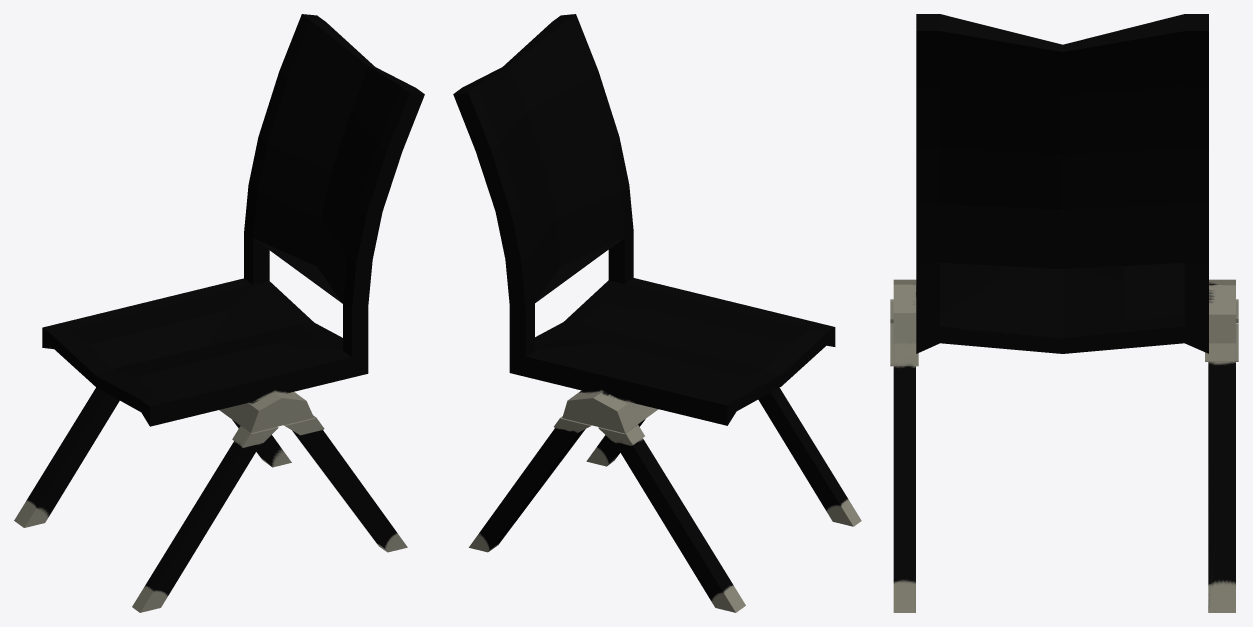
The model's file is Stuhl_Colored_Space.fbx.
3 renders of one model, left to right at view 1: azimuth 30°, elevation 25°; view 2: azimuth 150°, elevation 25°; view 3: azimuth 270°, elevation 25°, orthographic. The views are drawn at different scales.
Parts seen in each view (by area): view 1: node_id4; view 2: node_id4; view 3: node_id4.
Boxes of the visible parts, box(x1,y1,x2,y2) form: node_id4: box(14, 14, 424, 612); node_id4: box(453, 14, 861, 612); node_id4: box(890, 14, 1238, 612).
Size of the model in its own units: 0.3575 by 0.512 by 0.2669.
Materials: 1 (1 with a texture image).
